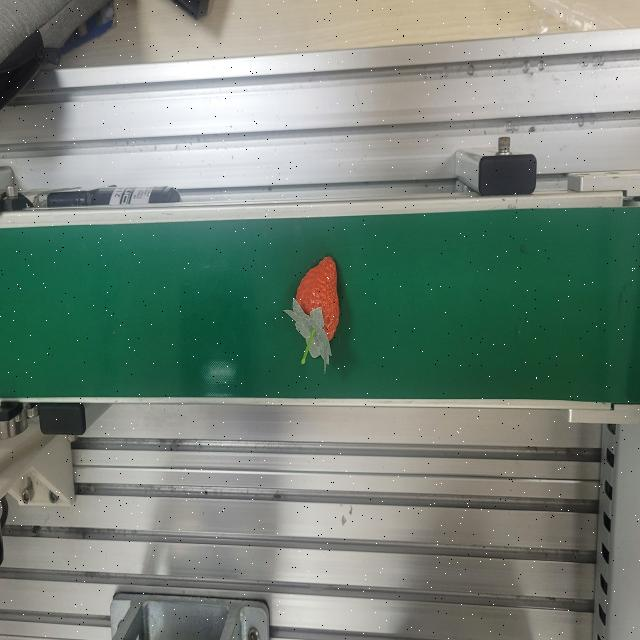Small Ripe Strawberry: (286, 252, 342, 372)
